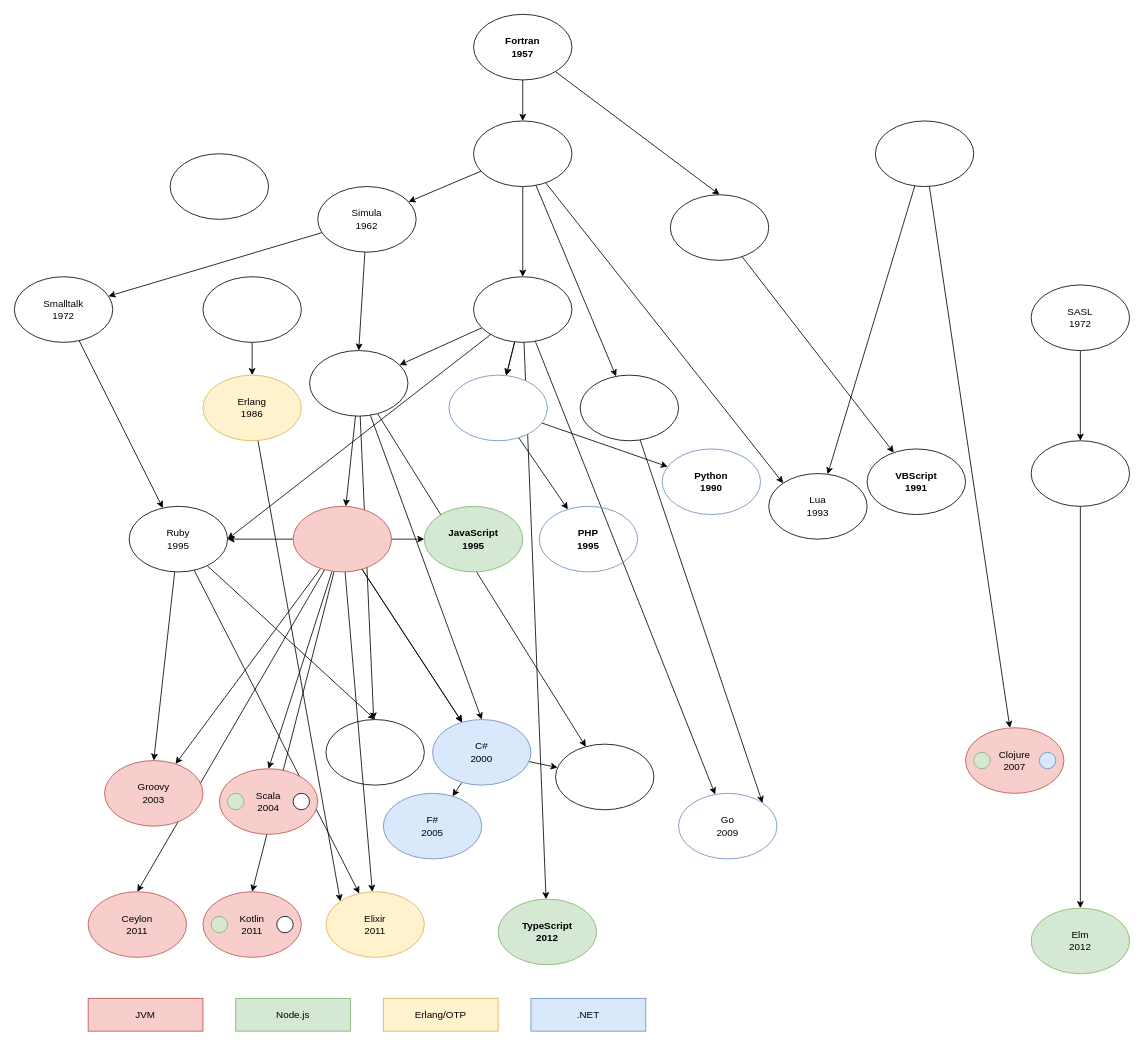
Image size: 1144x1046. Some labels were removed from this diagram. Each missing label, with the centre of its shape:
ALGOL 1958: point (522, 153)
BASIC 1964: point (719, 227)
C 1972: point (522, 309)
C++ 1985: point (358, 383)
COBOL 1959: point (219, 186)
D 2001: point (604, 776)
Haskell 1990: point (1080, 473)
Java 1995: point (342, 539)
Lisp 1958: point (924, 153)
Oberon 1987: point (629, 407)
Perl 1987: point (497, 407)
Prolog 1972: point (251, 309)
Rust 2000: point (374, 752)
